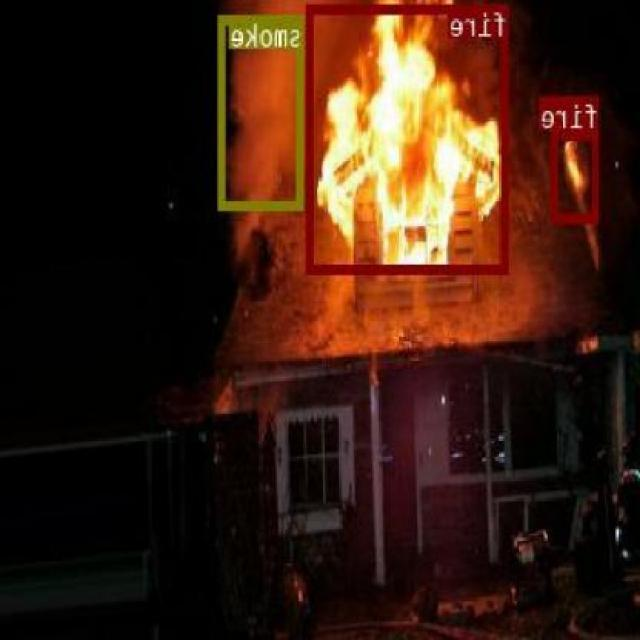Fire: (308, 2, 509, 272), (552, 129, 602, 220)
Smoke: (220, 15, 306, 208)
